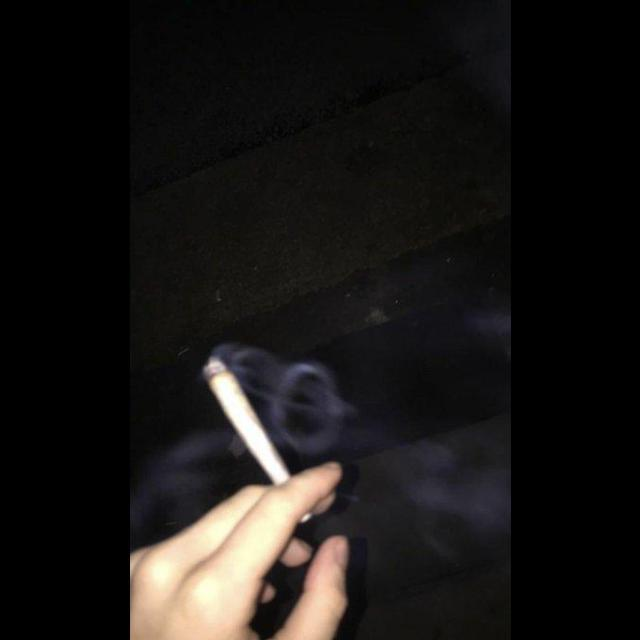rokok: (200, 348, 318, 526)
